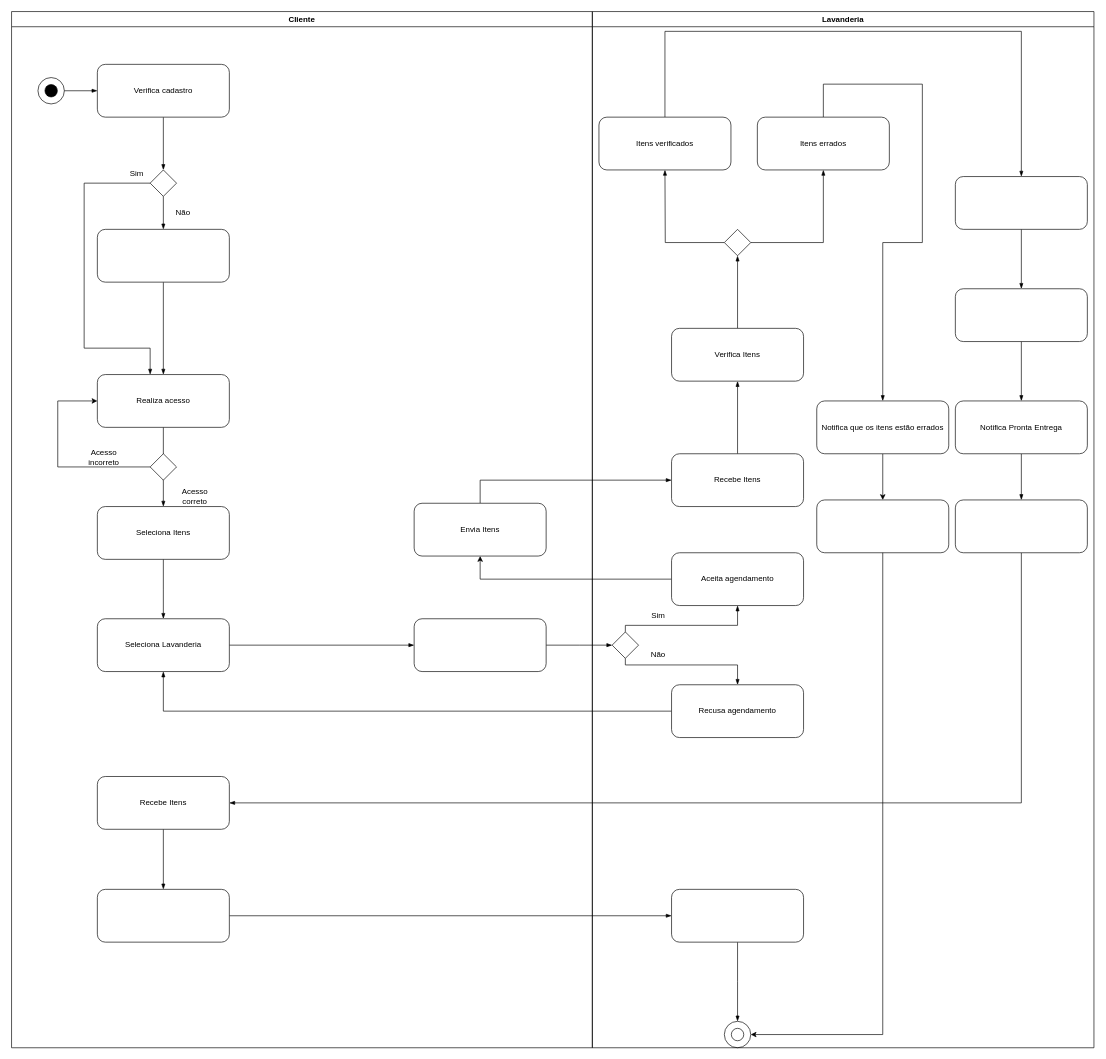
This 1106x1059 diagram has some shape labels left out. The shapes that lost their labels are listed below. From the top down, each one's centre as x and y in pixels, then its label:
the point at 1021,202: Notifica Inicio
the point at 163,255: Realiza cadastro
the point at 1021,315: Realiza lavagem
the point at 882,526: Retorno dos itens
the point at 1021,526: Envio dos Itens
the point at 479,645: Realiza agendamento
the point at 163,915: Realiza Avaliação
the point at 737,915: Recebe Avaliação
